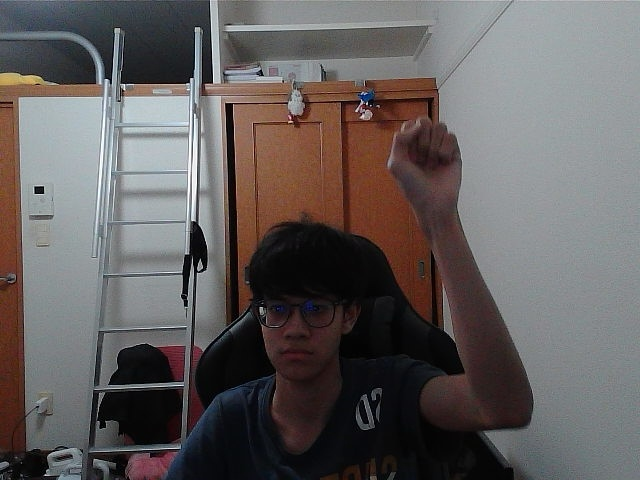closed_palm: (396, 122, 452, 197)
